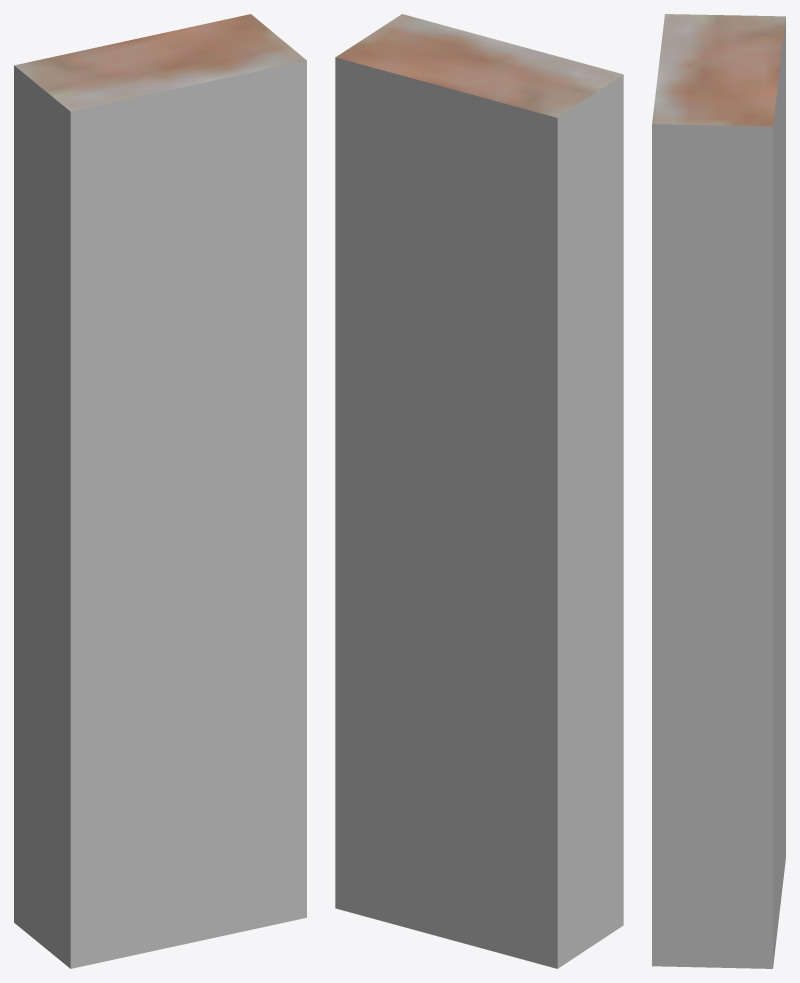
The model's file is DEBW_0010007THvr.gltf.
The picture shows the model from 3 angles, left to right: view 1: azimuth 30°, elevation 25°; view 2: azimuth 150°, elevation 25°; view 3: azimuth 270°, elevation 25°; orthographic projection.
Visible parts, largest first — view 1: Z_UP; view 2: Z_UP; view 3: Z_UP.
Boxes of the visible parts, <box> form: Z_UP: <box>14,14,306,968</box>; Z_UP: <box>335,14,623,968</box>; Z_UP: <box>652,14,785,968</box>.
Bounding box in the file's own units: 3.31 × 11.52 × 1.66.
Materials: 2 (1 with a texture image).
